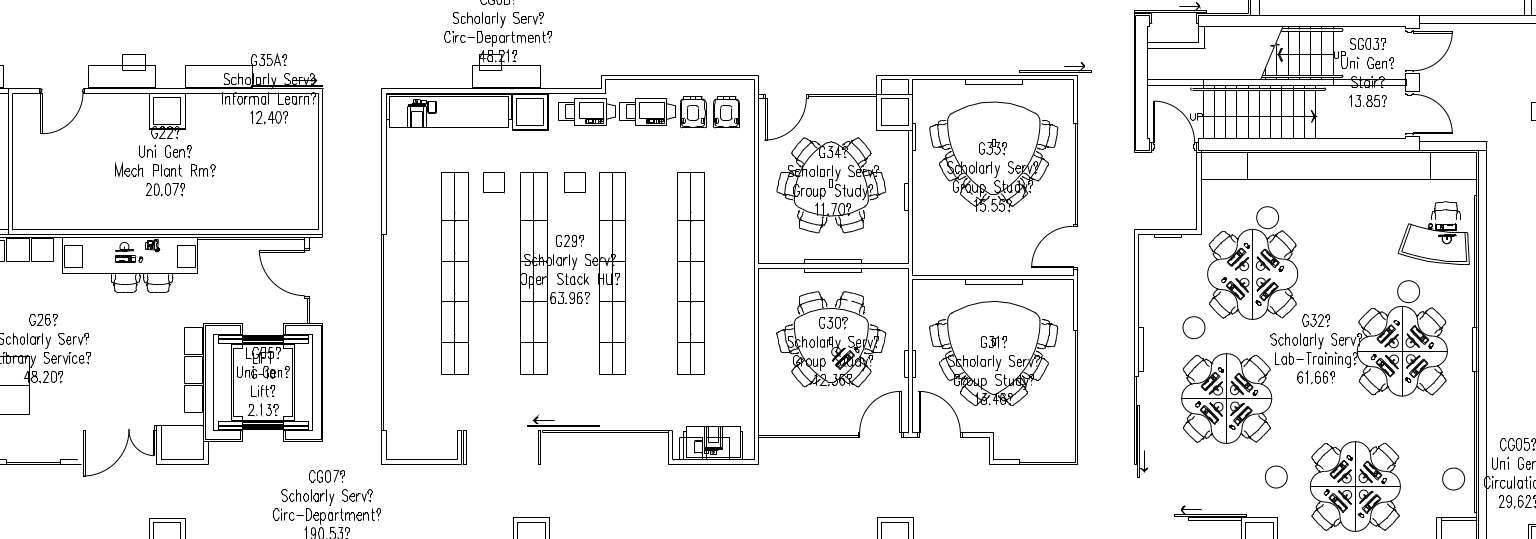door: (79, 420, 156, 484), (248, 242, 307, 303), (853, 385, 905, 443), (914, 386, 966, 444), (1024, 216, 1076, 274), (1149, 95, 1197, 154), (762, 90, 807, 144), (36, 94, 86, 138), (1420, 88, 1455, 136), (1421, 29, 1456, 77)
